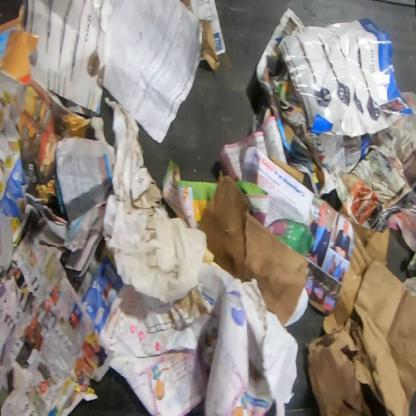cardboard: (196, 174, 311, 330), (305, 260, 415, 415), (100, 95, 171, 241), (322, 203, 391, 336), (0, 1, 40, 88), (267, 218, 315, 256), (199, 18, 222, 73), (269, 155, 305, 184), (179, 0, 190, 10)
soft_plastic: (104, 200, 208, 305)
